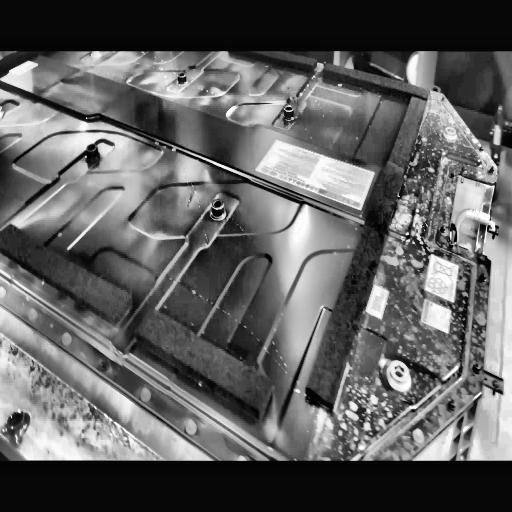b_casing: (1, 48, 498, 460)
